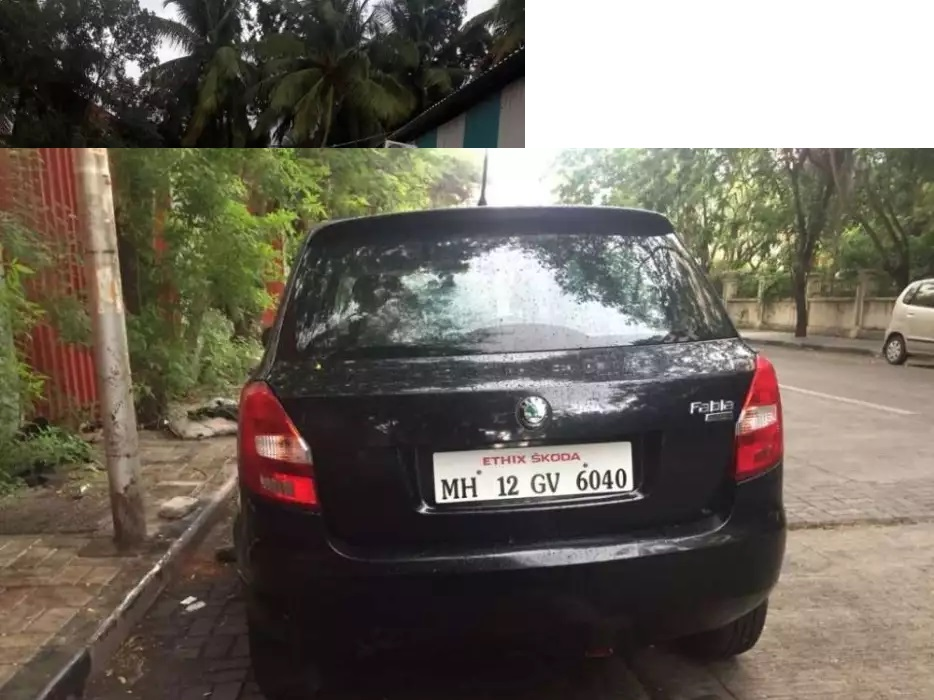licenseplate: (427, 442, 642, 510)
